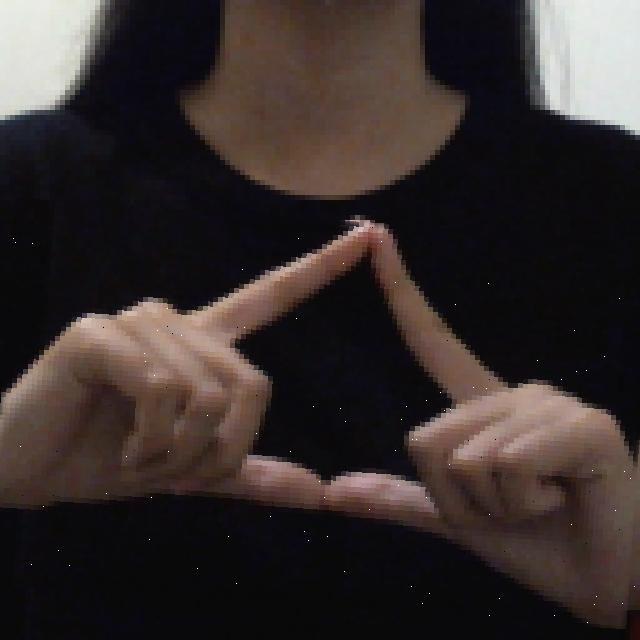A: (0, 224, 637, 629)
